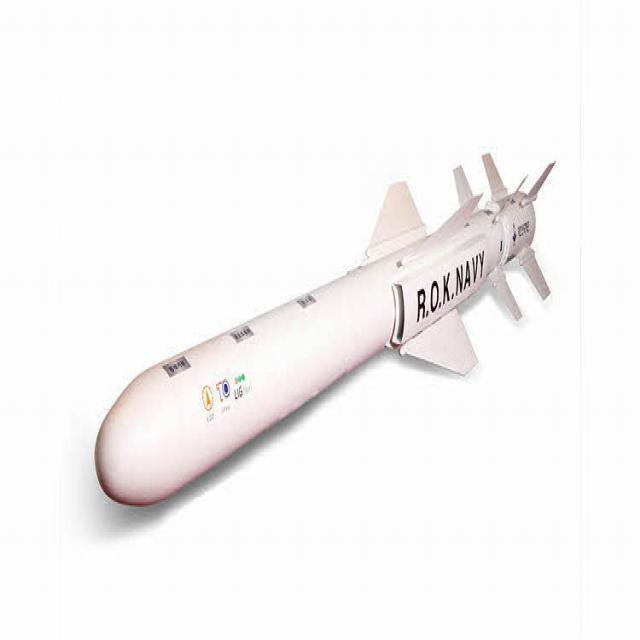Missile: (72, 107, 580, 534)
